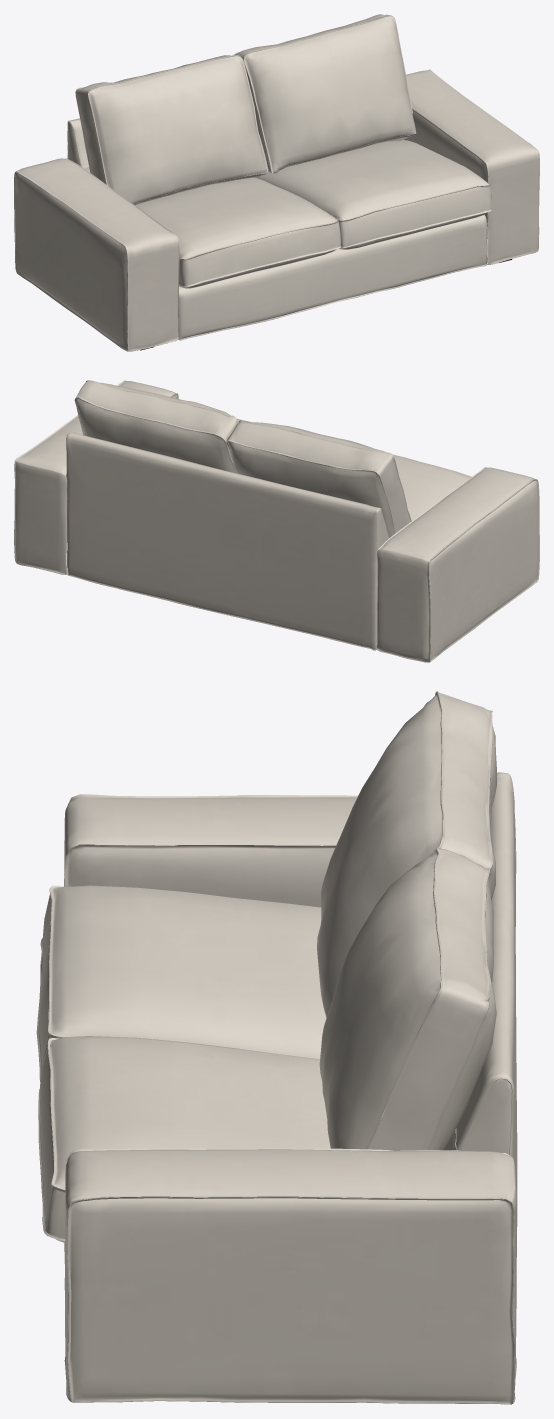
The model's file is cover-gunnared-bezowy.glb.
3 views of the same model, one above another, from view 1: azimuth 30°, elevation 25°; view 2: azimuth 150°, elevation 25°; view 3: azimuth 270°, elevation 25° (orthographic). The views are drawn at different scales.
Parts seen in each view (by area): view 1: Mesh_0; view 2: Mesh_0; view 3: Mesh_0.
Boxes of the visible parts, bbox=[...] form: Mesh_0: bbox=[14, 14, 539, 351]; Mesh_0: bbox=[14, 380, 539, 662]; Mesh_0: bbox=[36, 691, 517, 1404].
Size of the model in its own units: 1.9 by 0.8299 by 0.9501.
Materials: 2 (2 with a texture image).
